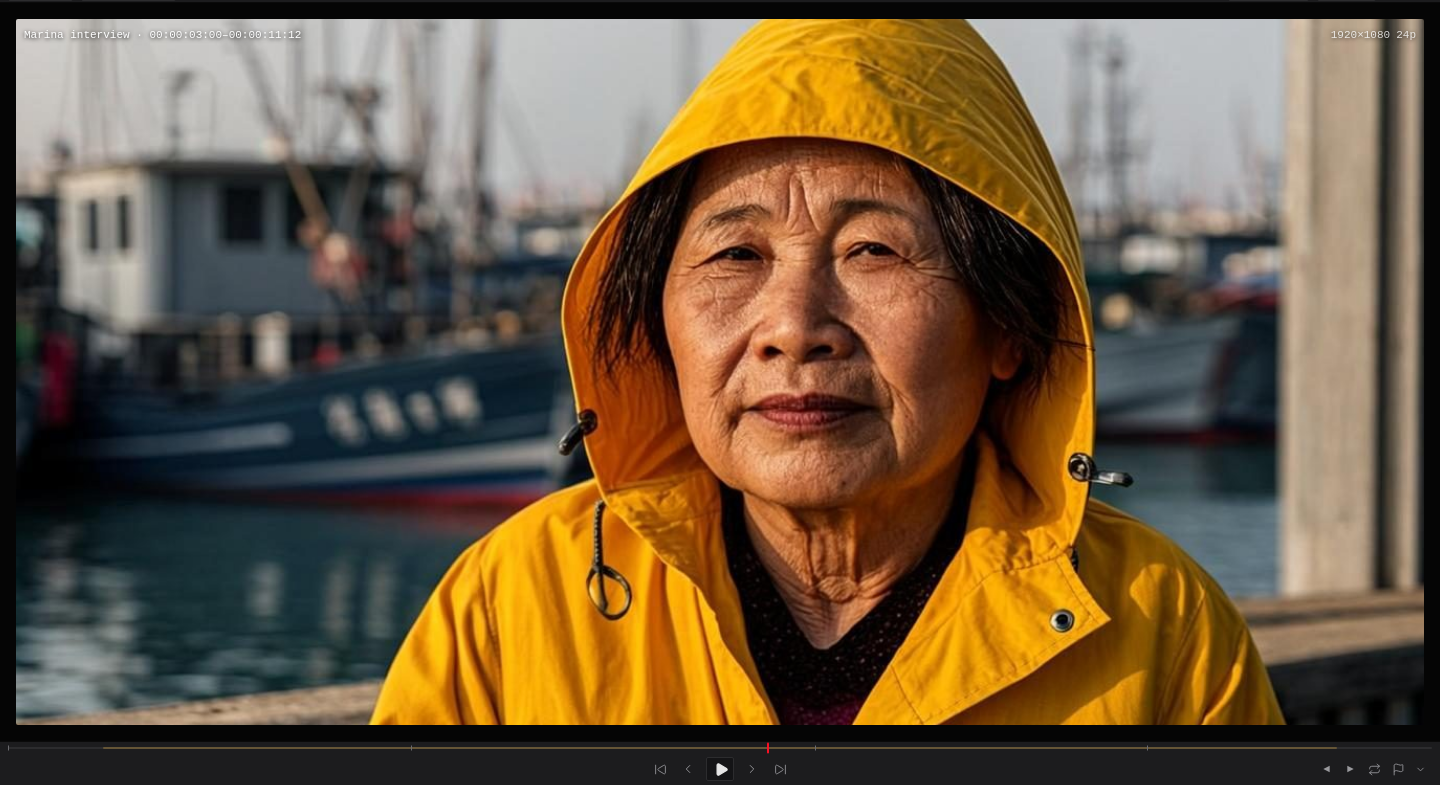
Test: Viewer (spec 18 §4.3) › R25-F2 (E9): the marker-color chevron widens to the 24px hit floor (was 16px)
Note: the palette still opens through it (the R13 keyboard path is intact)
Click the button named "Marker color" at (1420, 769), box [1408,759,1432,779]
(page scrolled)
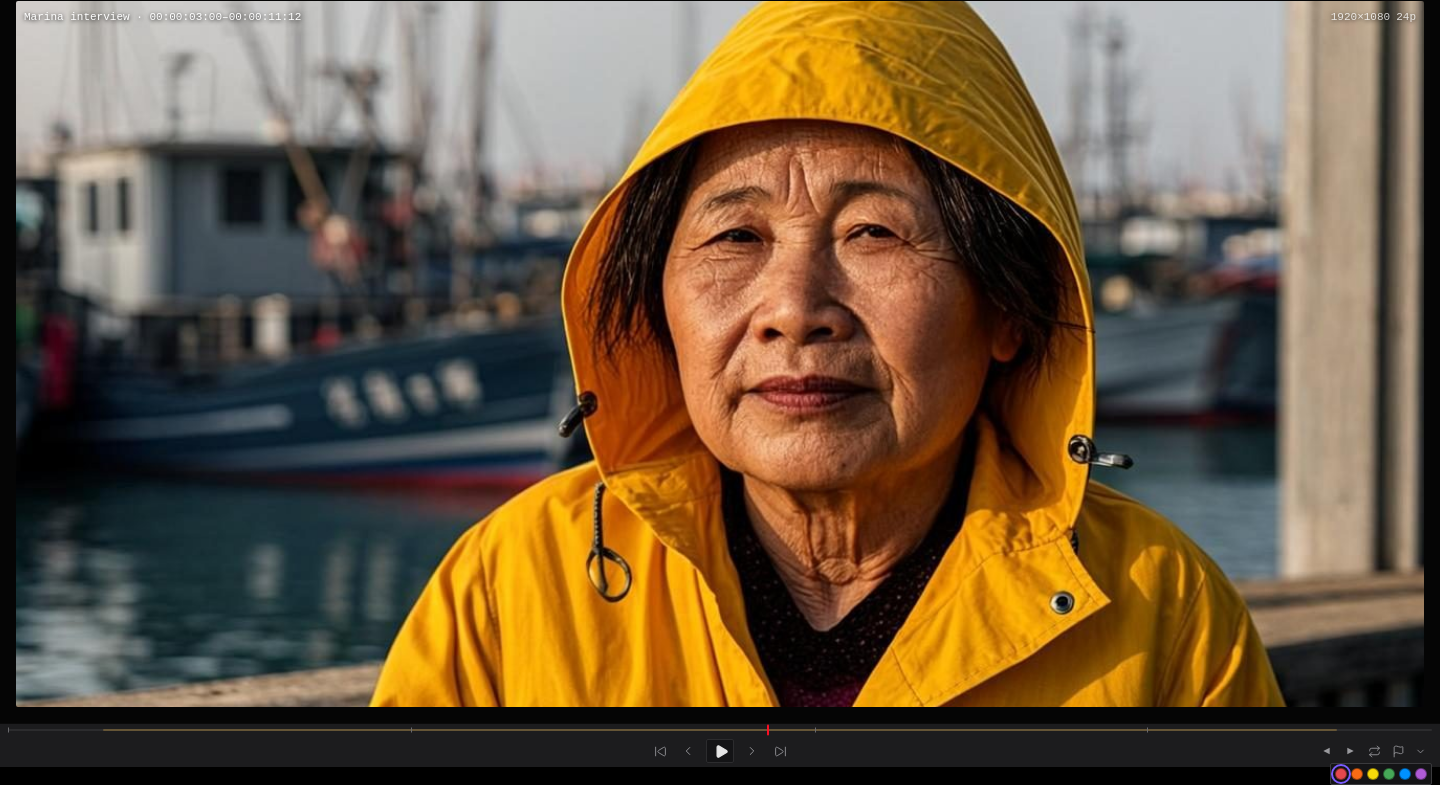
Expected: the menu named "Marker color" is shown, [1330,763,1432,784]
